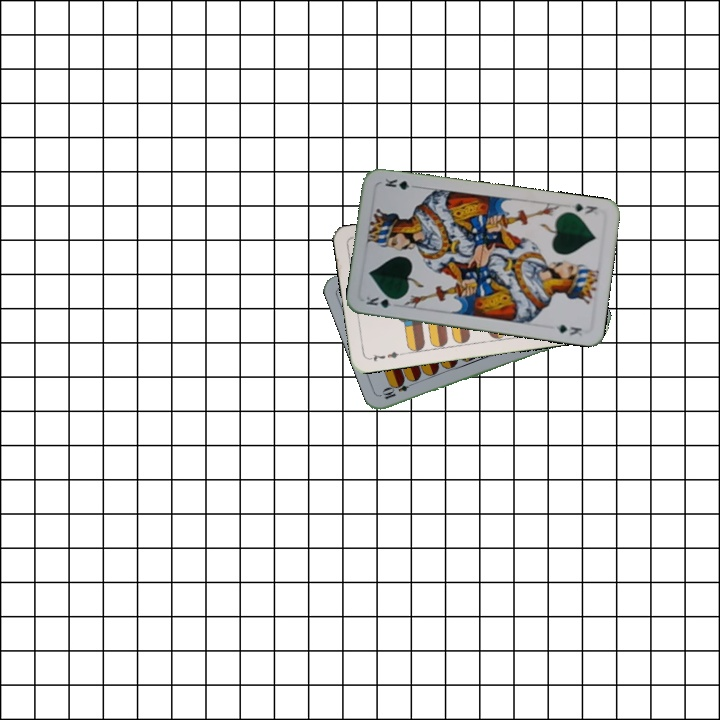E10: (378, 377, 418, 402)
E7: (365, 347, 405, 364)
GK: (362, 292, 402, 311), (564, 199, 600, 217)
